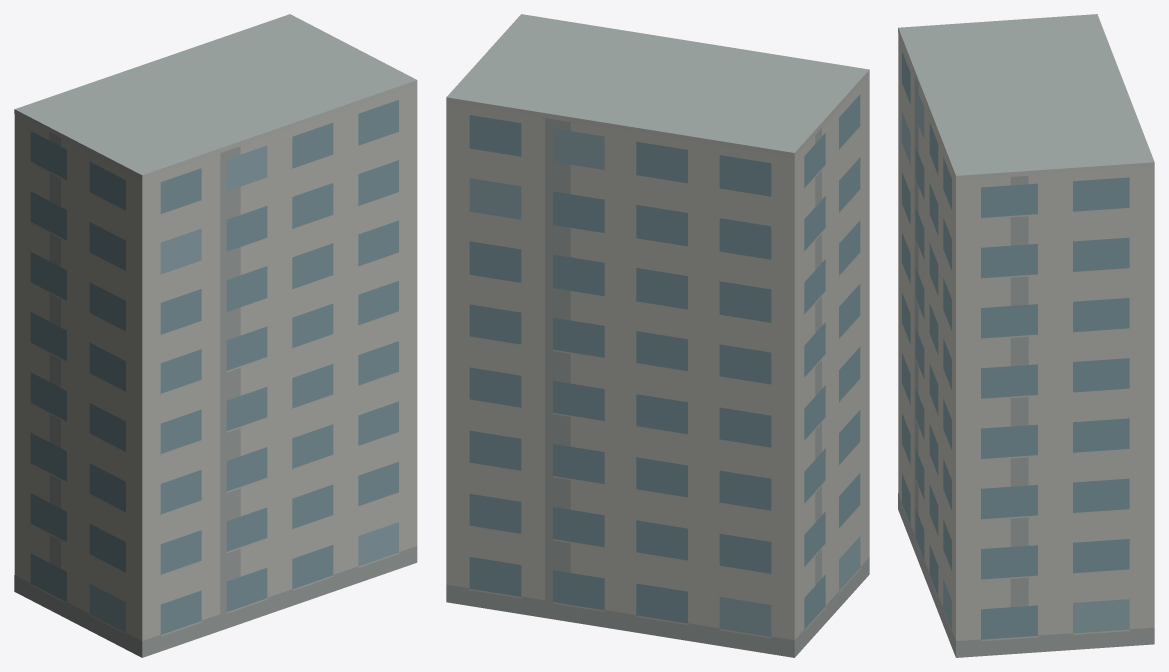
File: survey-upis-32800110.glb
3 views of the same model, side by side, from view 1: azimuth 30°, elevation 25°; view 2: azimuth 150°, elevation 25°; view 3: azimuth 270°, elevation 25° (orthographic). The views are drawn at different scales.
Parts seen in each view (by area): view 1: survey-upis-32800110.tmp; view 2: survey-upis-32800110.tmp; view 3: survey-upis-32800110.tmp.
Boxes of the visible parts, x1=… form: survey-upis-32800110.tmp: x1=14, y1=14, x2=417, y2=657; survey-upis-32800110.tmp: x1=446, y1=14, x2=869, y2=657; survey-upis-32800110.tmp: x1=898, y1=14, x2=1154, y2=657.
Bounding box in the file's own units: 17.58 × 24.4 × 11.78.
